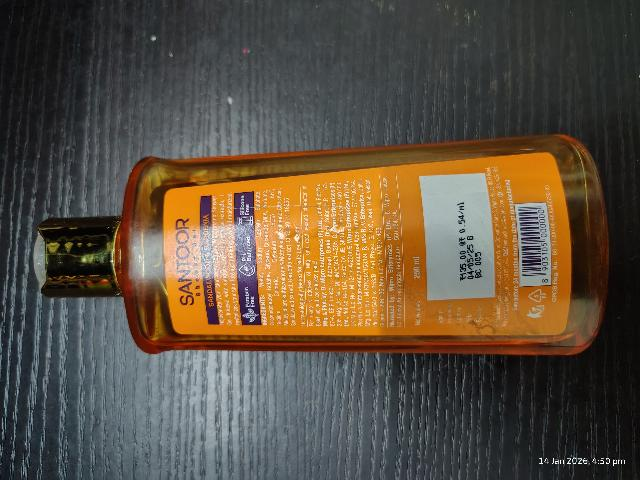santoor bodywash: (33, 136, 629, 359)
